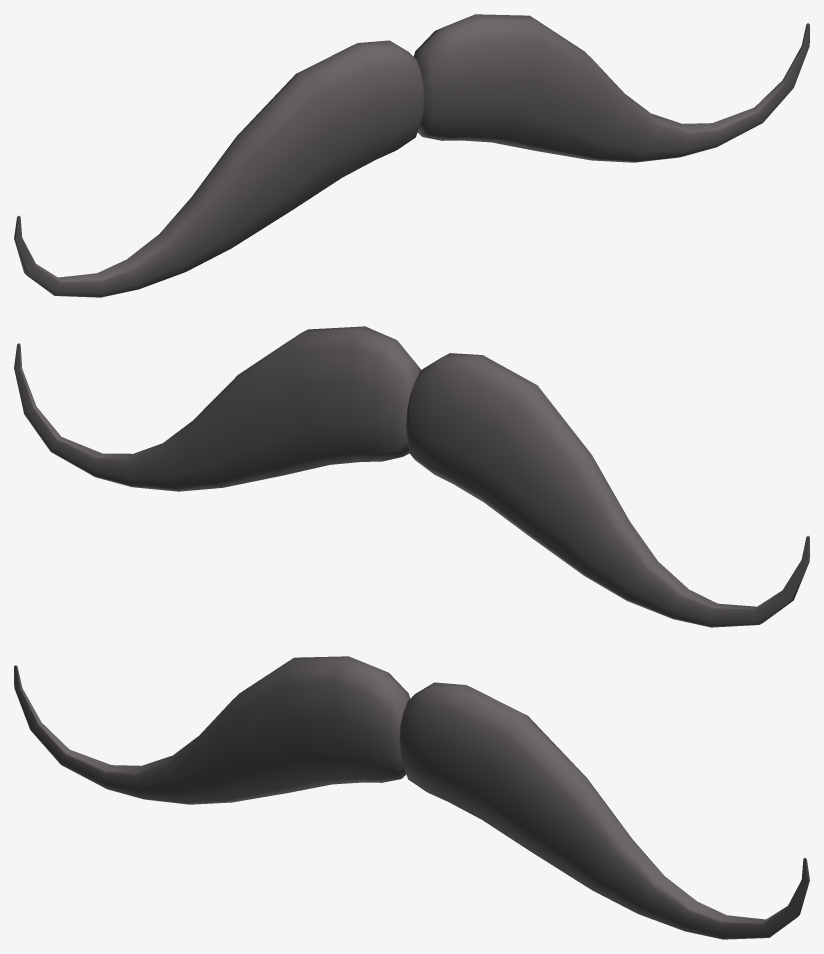
File: Beard_02_04.fbx
The picture shows the model from 3 angles, top to bottom: view 1: azimuth 30°, elevation 25°; view 2: azimuth 150°, elevation 25°; view 3: azimuth 330°, elevation 25°; orthographic projection.
Visible parts, largest first — view 1: Beard_02_04; view 2: Beard_02_04; view 3: Beard_02_04.
Part boxes in pixels (left/top/right/bottom): Beard_02_04: left=14, top=14, right=809, bottom=297; Beard_02_04: left=14, top=326, right=809, bottom=627; Beard_02_04: left=14, top=656, right=809, bottom=939.
Bounding box in the file's own units: 29.8 × 7.17 × 2.32.
